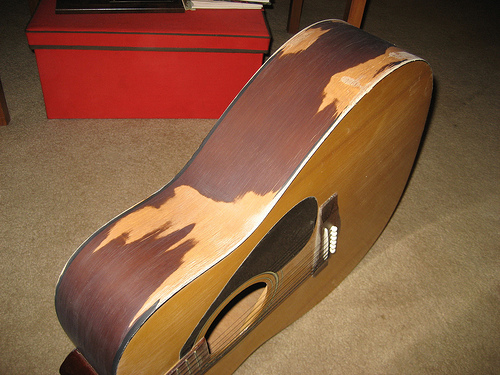guitar: (53, 18, 437, 375)
